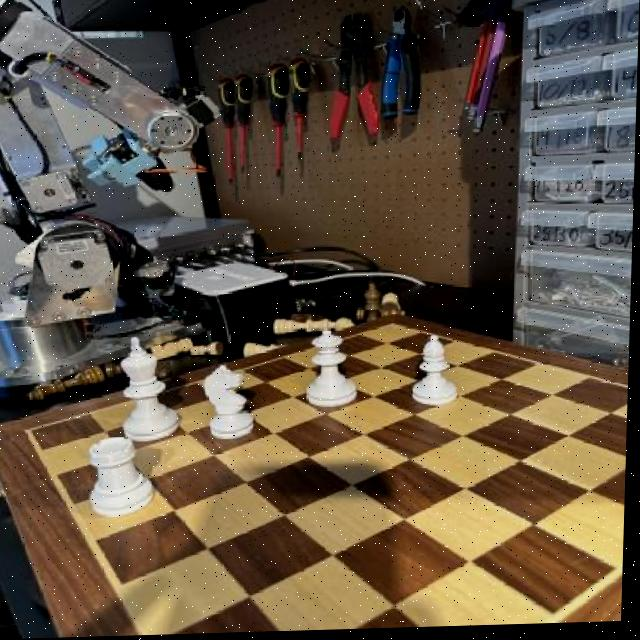black-rook: (412, 337, 467, 413)
white-bishop: (114, 334, 190, 446)
white-king: (197, 364, 265, 448)
white-pawn: (307, 331, 366, 419)
white-queen: (85, 437, 163, 521)
